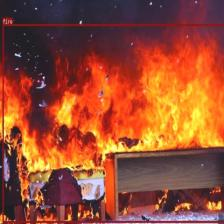fire: (2, 24, 224, 222)
